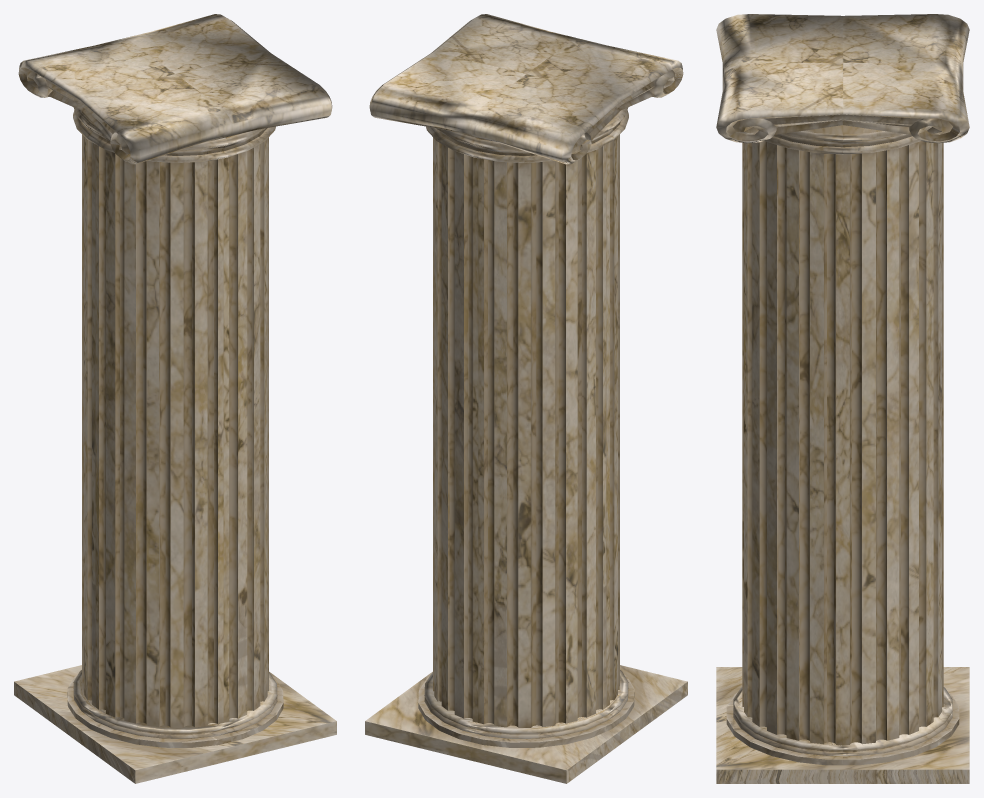
Rendered from Post.fbx.
The picture shows the model from 3 angles, left to right: view 1: azimuth 30°, elevation 25°; view 2: azimuth 150°, elevation 25°; view 3: azimuth 270°, elevation 25°; orthographic projection. The views are drawn at different scales.
Visible parts, largest first — view 1: Post; view 2: Post; view 3: Post.
Boxes of the visible parts, x1,y1,x2,y2 form: Post: (14, 14, 336, 783); Post: (365, 14, 687, 783); Post: (716, 14, 969, 783).
Bounding box in the file's own units: 30.88 × 93.8 × 32.17.
